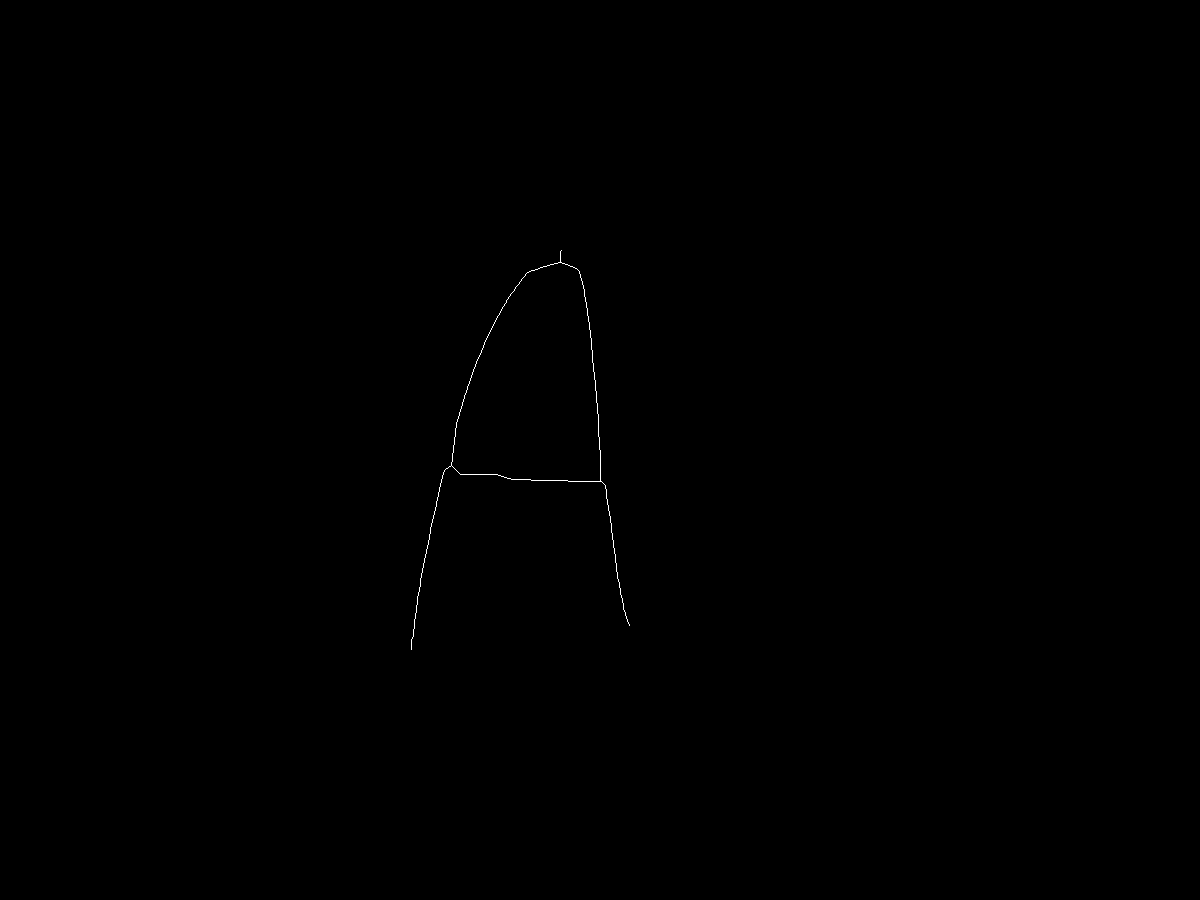dian1: (553, 258, 566, 271)
dian2: (441, 459, 453, 471)
dian3: (407, 644, 422, 659)
dian4: (594, 473, 612, 491)
dian5: (620, 620, 634, 634)
